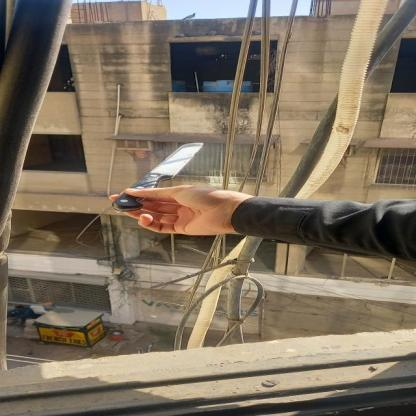Knife: (111, 140, 206, 214)
